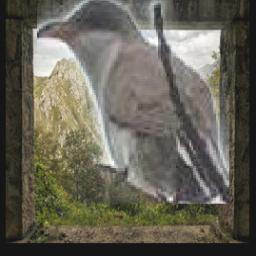Cuckoo: (37, 0, 229, 205)
